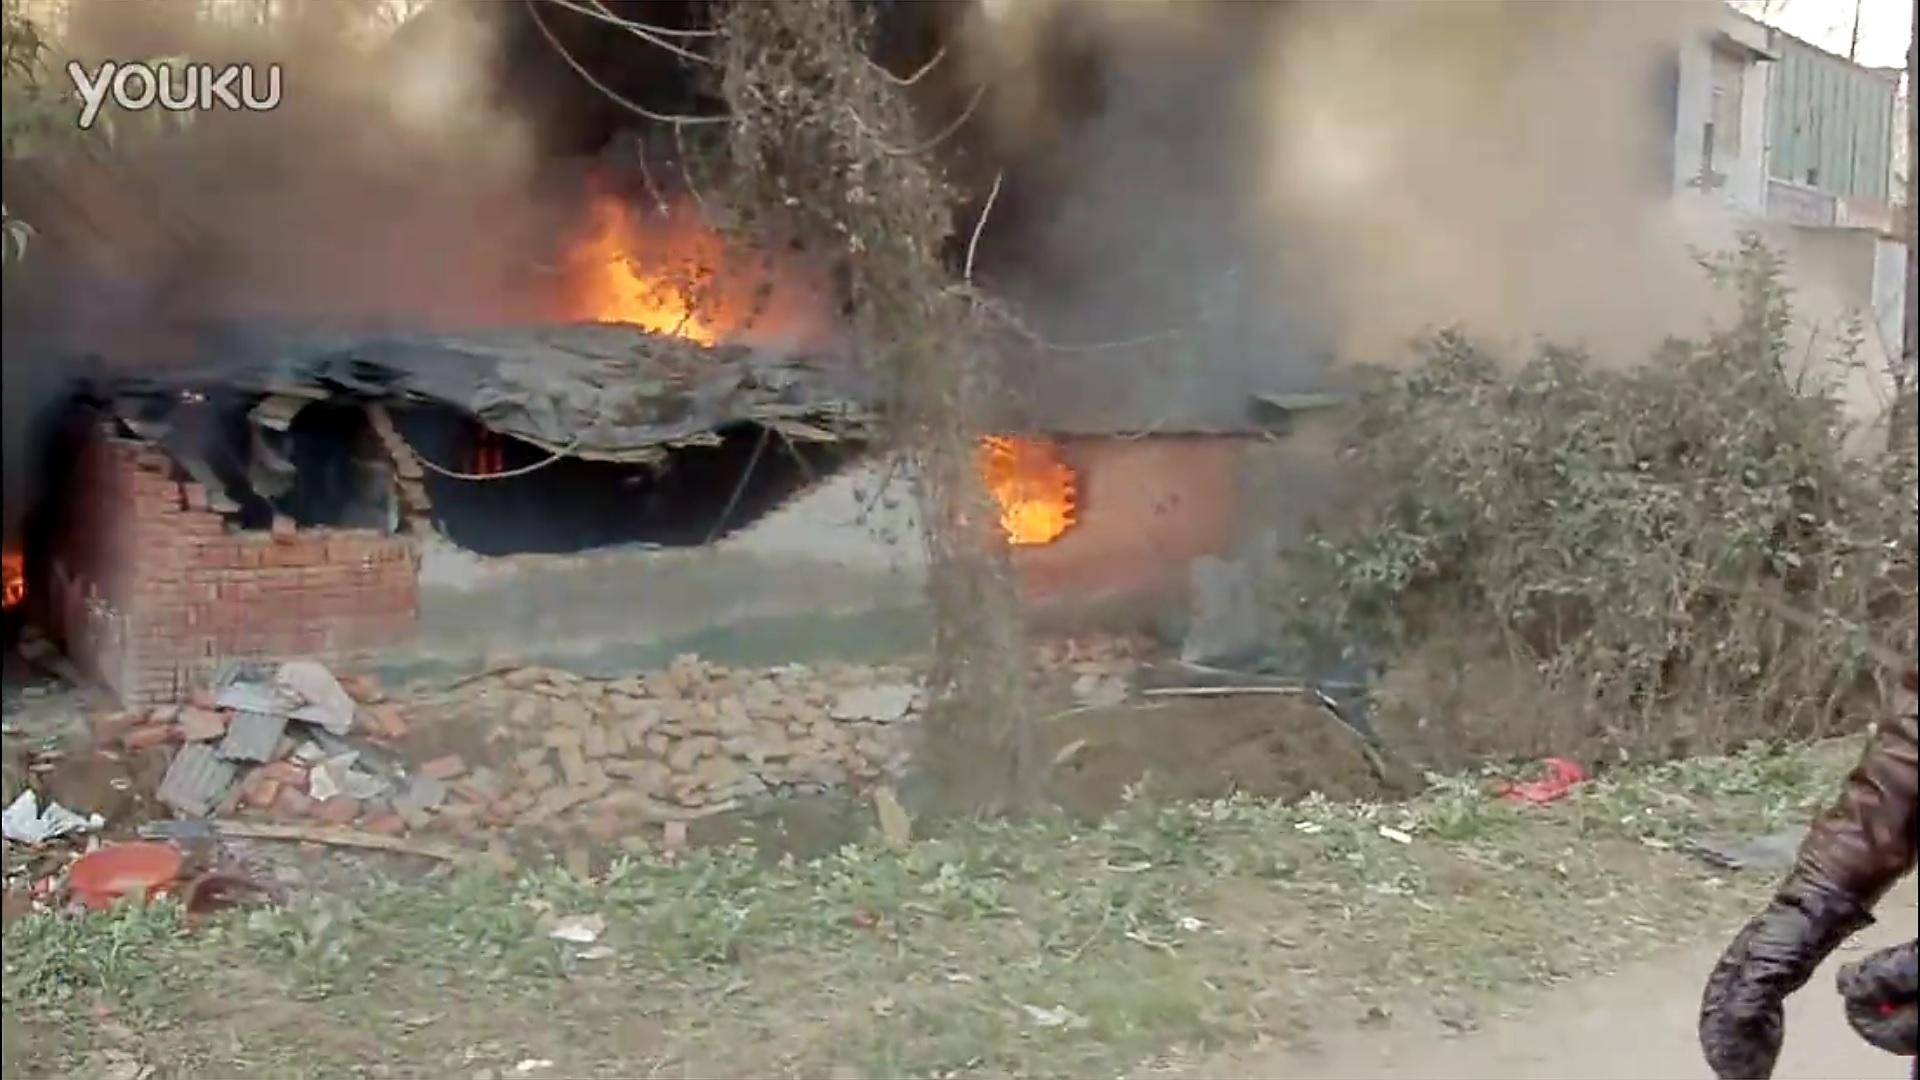fire: (578, 214, 729, 342), (971, 426, 1081, 545), (0, 541, 29, 608)
